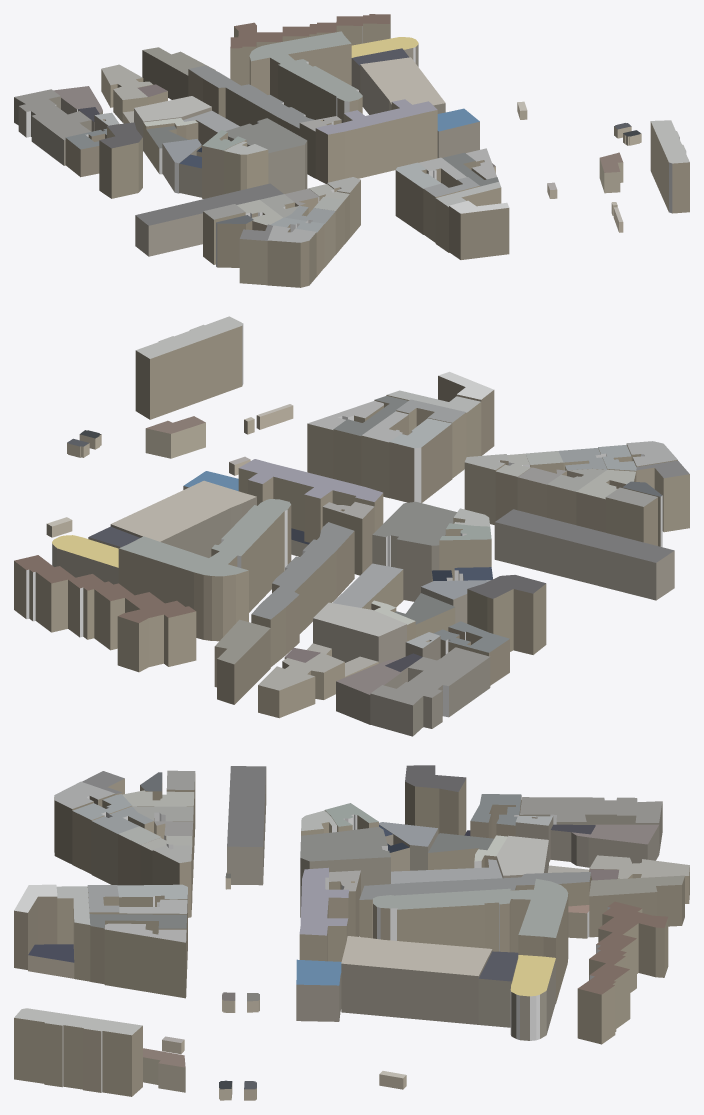
The picture shows the model from 3 angles, top to bottom: view 1: azimuth 30°, elevation 25°; view 2: azimuth 150°, elevation 25°; view 3: azimuth 270°, elevation 25°; orthographic projection. The views are drawn at different scales.
Visible parts, largest first — view 1: tuile; view 2: tuile; view 3: tuile.
Boxes of the visible parts, x1,y1,x2,y2 form: tuile: (14,14,689,287); tuile: (14,316,689,736); tuile: (14,765,689,1100).
Size of the model in its own units: 274 by 34.83 by 266.
